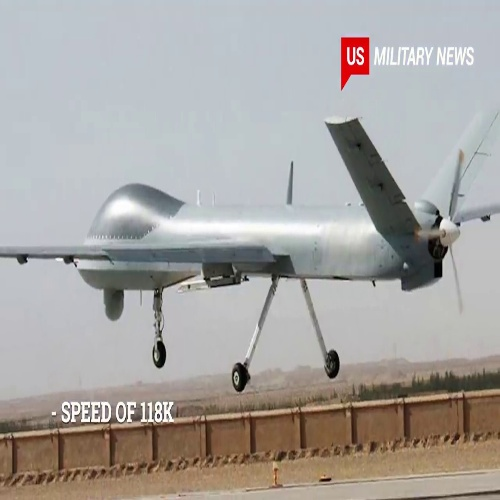uav: (1, 111, 500, 392)
